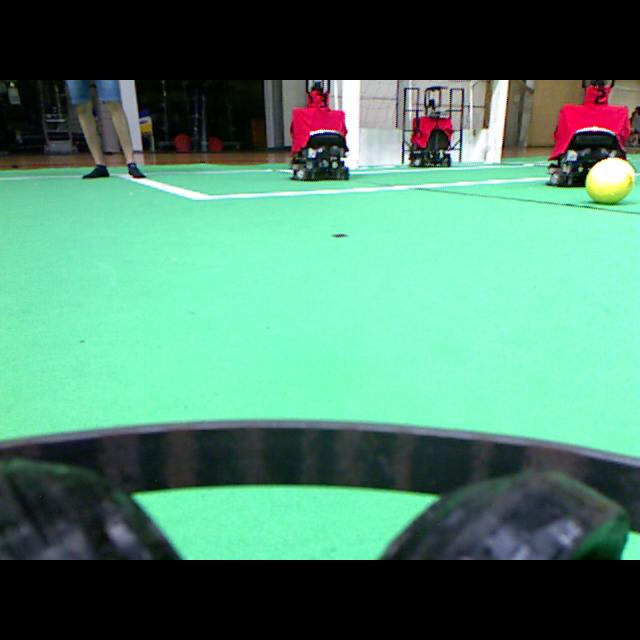ball: (586, 158, 634, 203)
goal: (485, 80, 508, 162), (342, 80, 359, 168)
